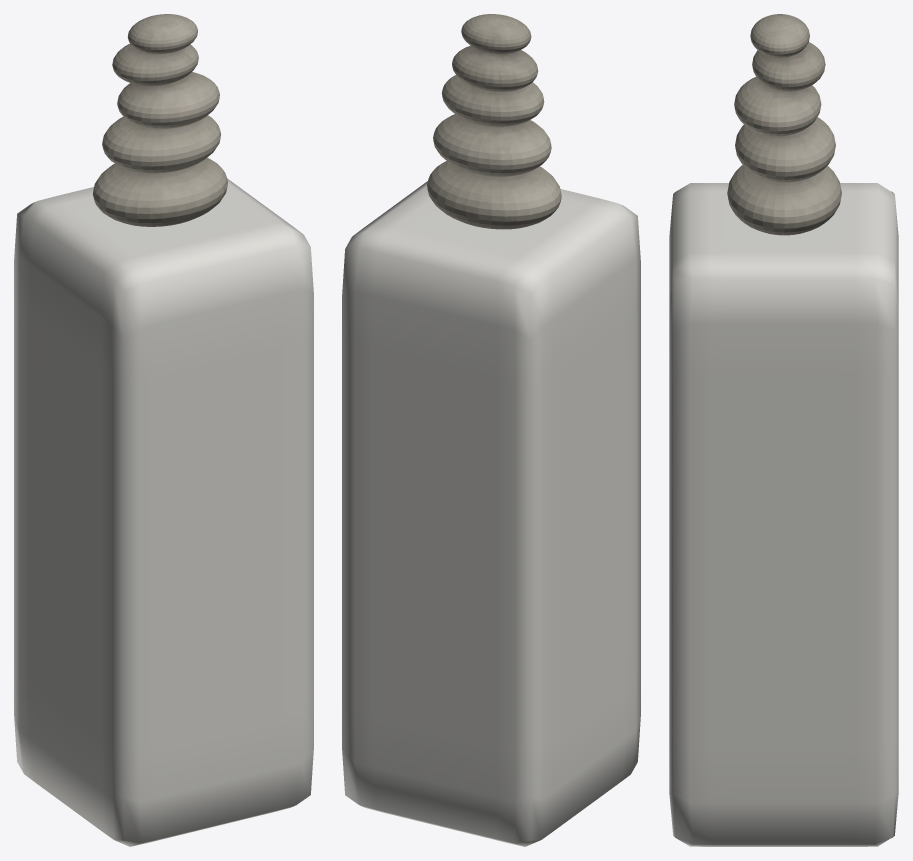
Rendered from stone-stack.glb.
3 renders of one model, left to right at view 1: azimuth 30°, elevation 25°; view 2: azimuth 150°, elevation 25°; view 3: azimuth 270°, elevation 25°, orthographic.
Parts seen in each view (by area): view 1: plinth_white, stone_sculpt; view 2: plinth_white, stone_sculpt; view 3: plinth_white, stone_sculpt.
Boxes of the visible parts, x1,y1,x2,y2 form: plinth_white: (14, 178, 313, 846); stone_sculpt: (93, 14, 227, 226); plinth_white: (342, 181, 640, 846); stone_sculpt: (427, 14, 561, 229); plinth_white: (669, 183, 898, 846); stone_sculpt: (727, 14, 841, 235).
Size of the model in its own units: 0.32 by 1.21 by 0.32.
Materials: 2 (1 with a texture image).
